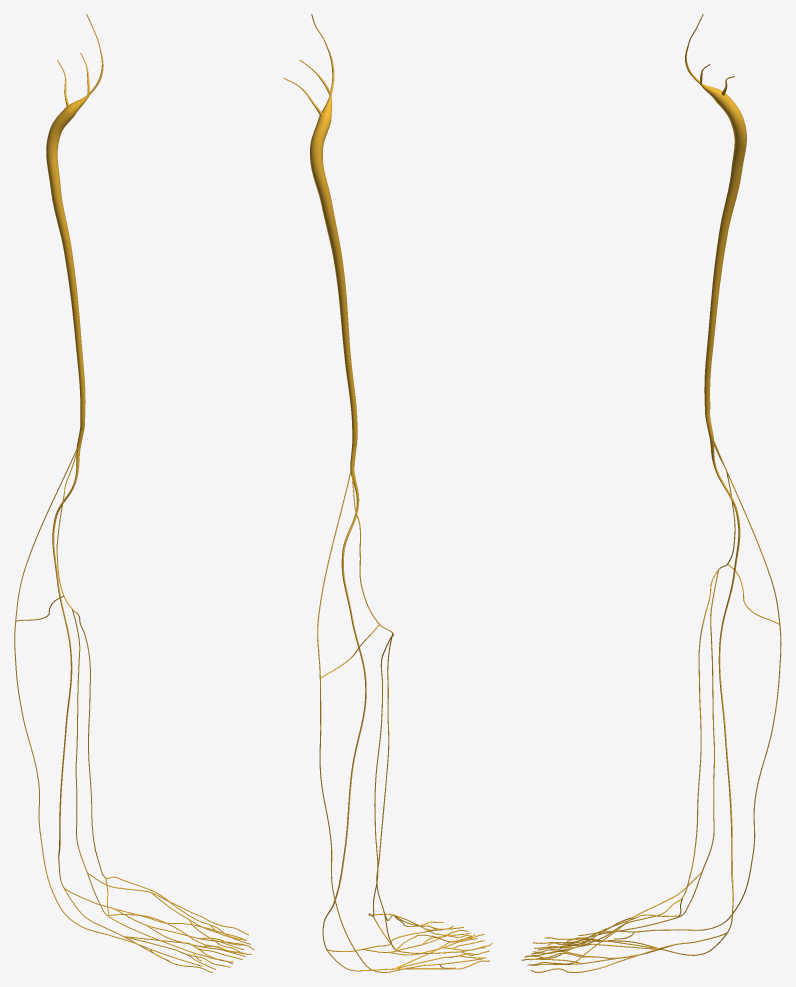
Rendered from nervoso-sciatic-nerve-r.glb.
3 renders of one model, left to right at view 1: azimuth 90°, elevation 25°; view 2: azimuth 150°, elevation 25°; view 3: azimuth 270°, elevation 25°, orthographic. The views are drawn at different scales.
Visible parts, largest first — view 1: Sciatic nerve.r, Tibial nerve.r, Sural nerve.r, Deep fibular nerve.r; view 2: Sciatic nerve.r, Tibial nerve.r, Sural nerve.r, Deep fibular nerve.r, Superficial fibular nerve.r; view 3: Sciatic nerve.r, Tibial nerve.r, Sural nerve.r, Deep fibular nerve.r.
Part boxes in pixels (x1,y1,x2,y2): Sciatic nerve.r: (46, 14, 103, 444); Tibial nerve.r: (52, 444, 80, 887); Sural nerve.r: (14, 563, 201, 966); Deep fibular nerve.r: (72, 609, 177, 908); Sciatic nerve.r: (283, 14, 357, 465); Tibial nerve.r: (322, 465, 366, 948); Sural nerve.r: (317, 614, 482, 972); Deep fibular nerve.r: (368, 633, 405, 922); Superficial fibular nerve.r: (376, 633, 392, 913); Sciatic nerve.r: (685, 14, 746, 435); Tibial nerve.r: (709, 435, 740, 931); Sural nerve.r: (578, 569, 781, 939); Deep fibular nerve.r: (604, 570, 718, 937).
Bounding box in the file's own units: 0.13 × 0.9713 × 0.233.
